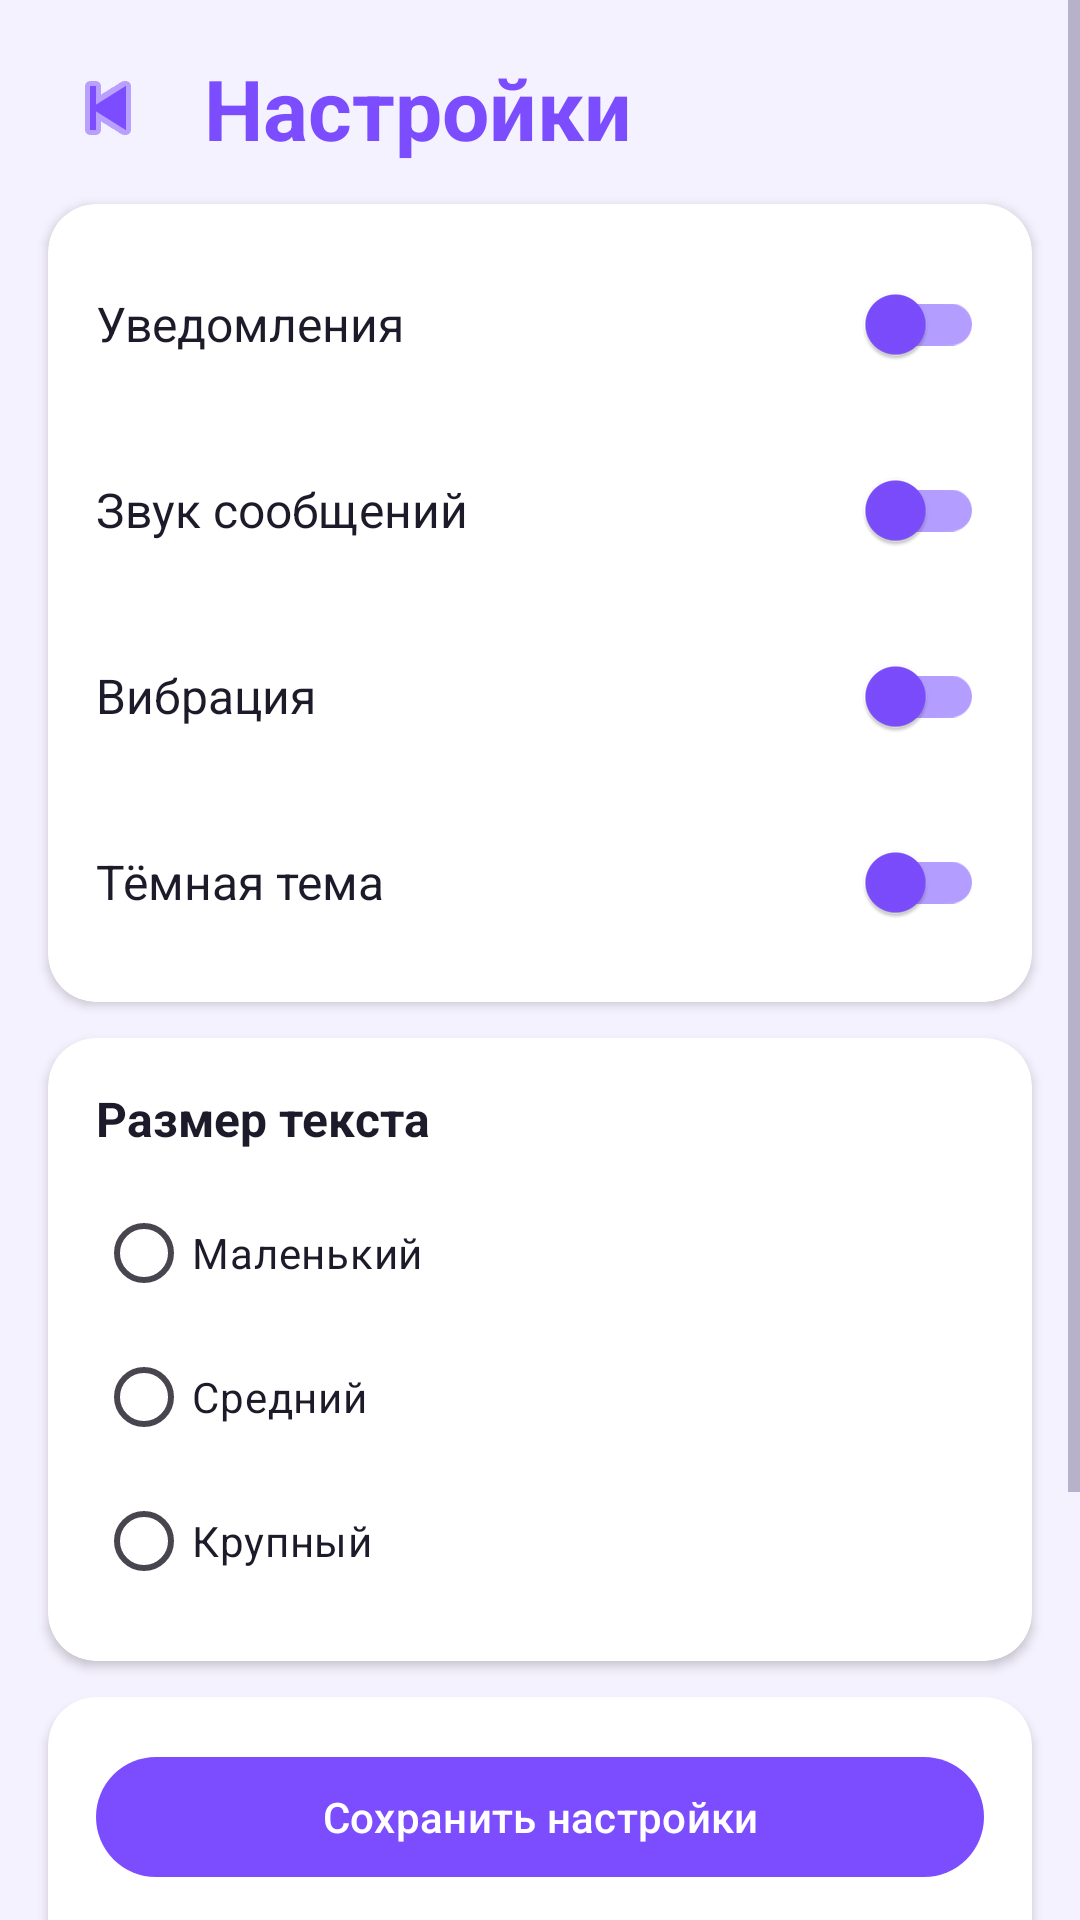

Locate icon controls on the screen. Image size 1080x1920, boxes as [x1=x1, y1=y1, x2=x2, y2=y2].
Назад: [x1=85, y1=81, x2=131, y2=135]
